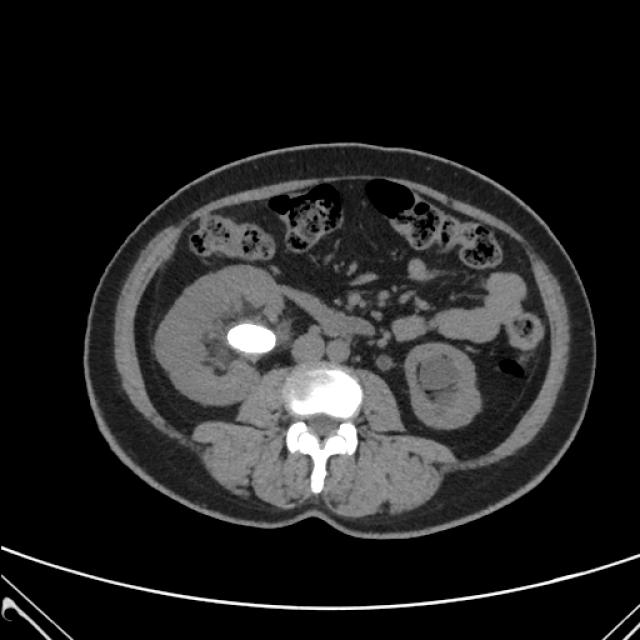kidney: (148, 260, 282, 410), (402, 344, 488, 438)
stone: (225, 321, 284, 363)
